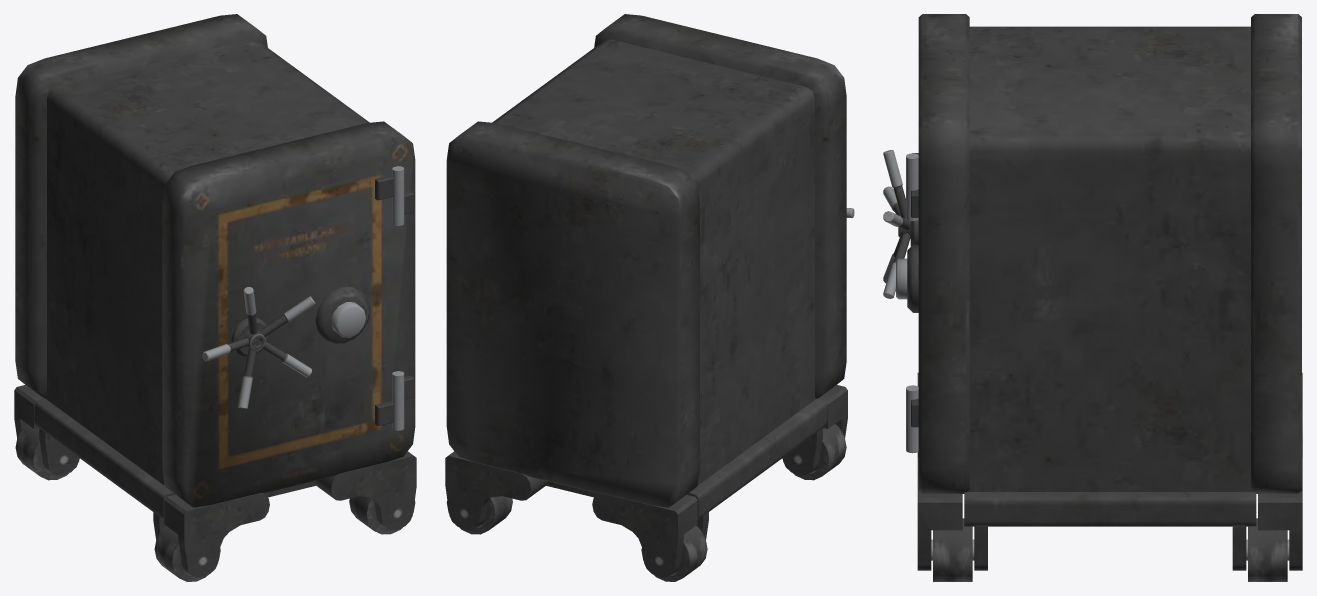
The model's file is antique_iron_safe.glb.
3 views of the same model, side by side, from view 1: azimuth 30°, elevation 25°; view 2: azimuth 150°, elevation 25°; view 3: azimuth 270°, elevation 25° (orthographic). The views are drawn at different scales.
Parts seen in each view (by area): view 1: Safe_LP_M_SafeFrontPanel_0; view 2: Safe_LP_M_SafeFrontPanel_0; view 3: Safe_LP_M_SafeFrontPanel_0.
Part boxes in pixels (x1,y1,x2,y2): Safe_LP_M_SafeFrontPanel_0: (14,14,416,581); Safe_LP_M_SafeFrontPanel_0: (445,14,854,581); Safe_LP_M_SafeFrontPanel_0: (883,14,1302,581).
Size of the model in its own units: 0.6219 by 0.9836 by 0.8199.
Materials: 1 (1 with a texture image).
